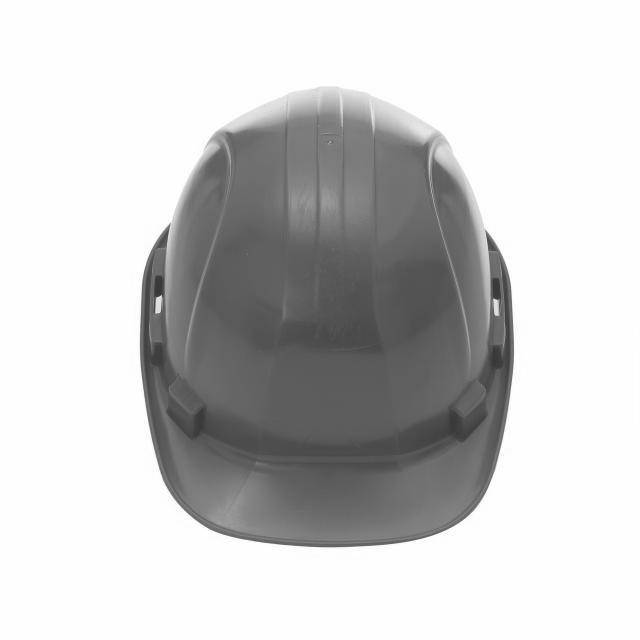safety_helmet: (138, 92, 515, 549)
